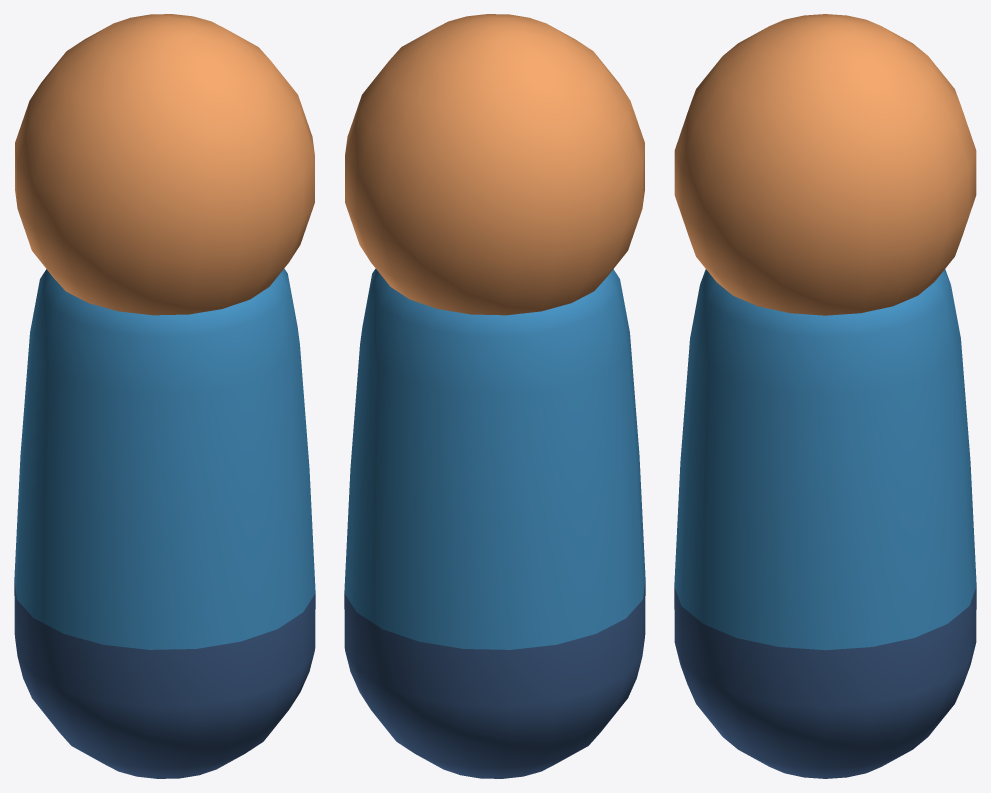
The model's file is mavi2.fbx.
The picture shows the model from 3 angles, left to right: view 1: azimuth 30°, elevation 25°; view 2: azimuth 150°, elevation 25°; view 3: azimuth 270°, elevation 25°; orthographic projection.
Parts seen in each view (by area): view 1: mavi2; view 2: mavi2; view 3: mavi2.
Part boxes in pixels (x1,y1,x2,y2): mavi2: (14, 14, 315, 778); mavi2: (344, 14, 645, 778); mavi2: (674, 14, 976, 778).
Bounding box in the file's own units: 1.86 × 5.02 × 1.86.
